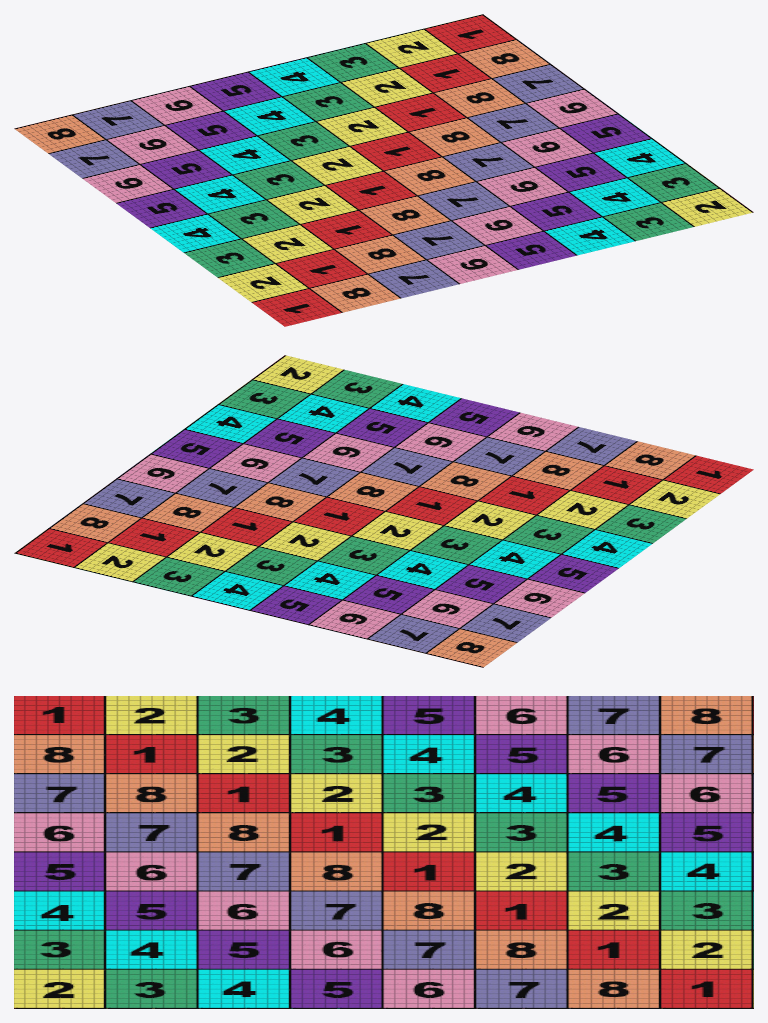
Rendered from watertess_ring3_corner.fbx.
The picture shows the model from 3 angles, top to bottom: view 1: azimuth 30°, elevation 25°; view 2: azimuth 150°, elevation 25°; view 3: azimuth 270°, elevation 25°; orthographic projection. The views are drawn at different scales.
Visible parts, largest first — view 1: watertess_ring3_corner; view 2: watertess_ring3_corner; view 3: watertess_ring3_corner.
Part boxes in pixels (x1,y1,x2,y2): watertess_ring3_corner: [14, 14, 753, 326]; watertess_ring3_corner: [14, 355, 753, 667]; watertess_ring3_corner: [14, 696, 753, 1008].
Size of the model in its own units: 128 by 2.09e-05 by 128.
